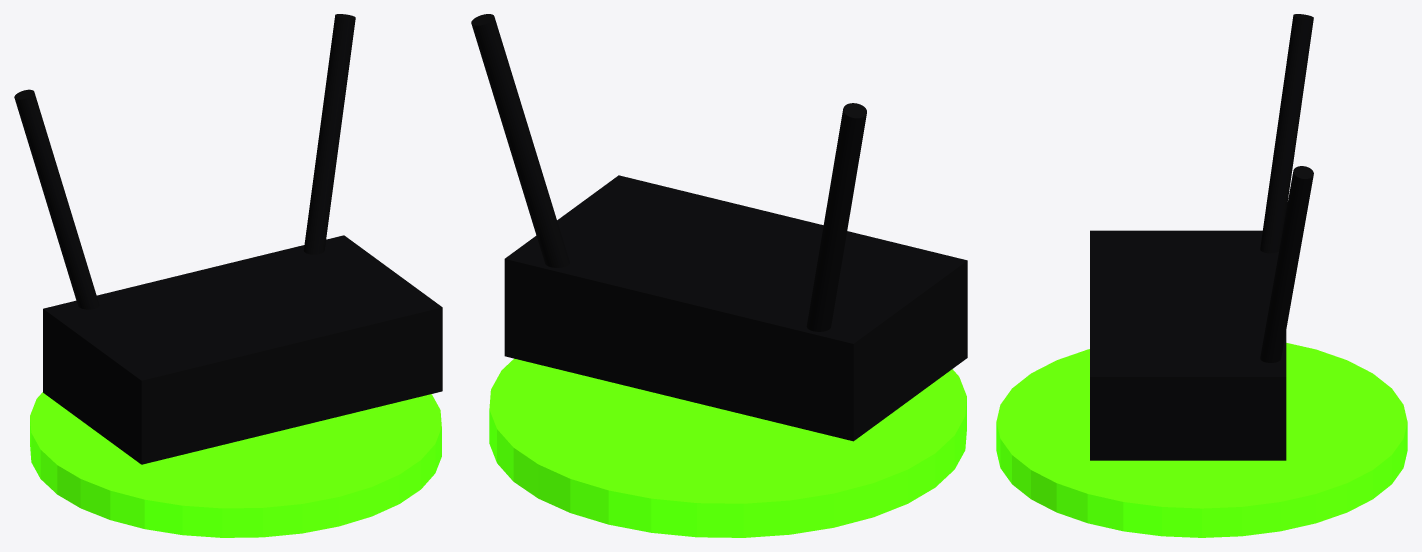
File: tech_router.dae
The picture shows the model from 3 angles, left to right: view 1: azimuth 30°, elevation 25°; view 2: azimuth 150°, elevation 25°; view 3: azimuth 270°, elevation 25°; orthographic projection. The views are drawn at different scales.
Parts seen in each view (by area): view 1: 08_18_Popular_Tech_Router_part_01, 08_18_Popular_Tech_Router_ROOT_base, 08_18_Popular_Tech_Router_part_03, 08_18_Popular_Tech_Router_part_02; view 2: 08_18_Popular_Tech_Router_part_01, 08_18_Popular_Tech_Router_ROOT_base, 08_18_Popular_Tech_Router_part_03, 08_18_Popular_Tech_Router_part_02; view 3: 08_18_Popular_Tech_Router_ROOT_base, 08_18_Popular_Tech_Router_part_01, 08_18_Popular_Tech_Router_part_02, 08_18_Popular_Tech_Router_part_03.
Part boxes in pixels (x1,y1,x2,y2): 08_18_Popular_Tech_Router_part_01: [43, 235, 442, 464]; 08_18_Popular_Tech_Router_ROOT_base: [30, 392, 441, 537]; 08_18_Popular_Tech_Router_part_03: [303, 14, 355, 254]; 08_18_Popular_Tech_Router_part_02: [14, 89, 99, 309]; 08_18_Popular_Tech_Router_part_01: [504, 175, 967, 441]; 08_18_Popular_Tech_Router_ROOT_base: [489, 358, 966, 537]; 08_18_Popular_Tech_Router_part_03: [471, 14, 569, 267]; 08_18_Popular_Tech_Router_part_02: [806, 103, 866, 331]; 08_18_Popular_Tech_Router_ROOT_base: [996, 343, 1407, 537]; 08_18_Popular_Tech_Router_part_01: [1090, 230, 1286, 460]; 08_18_Popular_Tech_Router_part_02: [1260, 14, 1313, 253]; 08_18_Popular_Tech_Router_part_03: [1260, 166, 1313, 362].
Size of the model in its own units: 0.76 by 0.7325 by 0.76.
